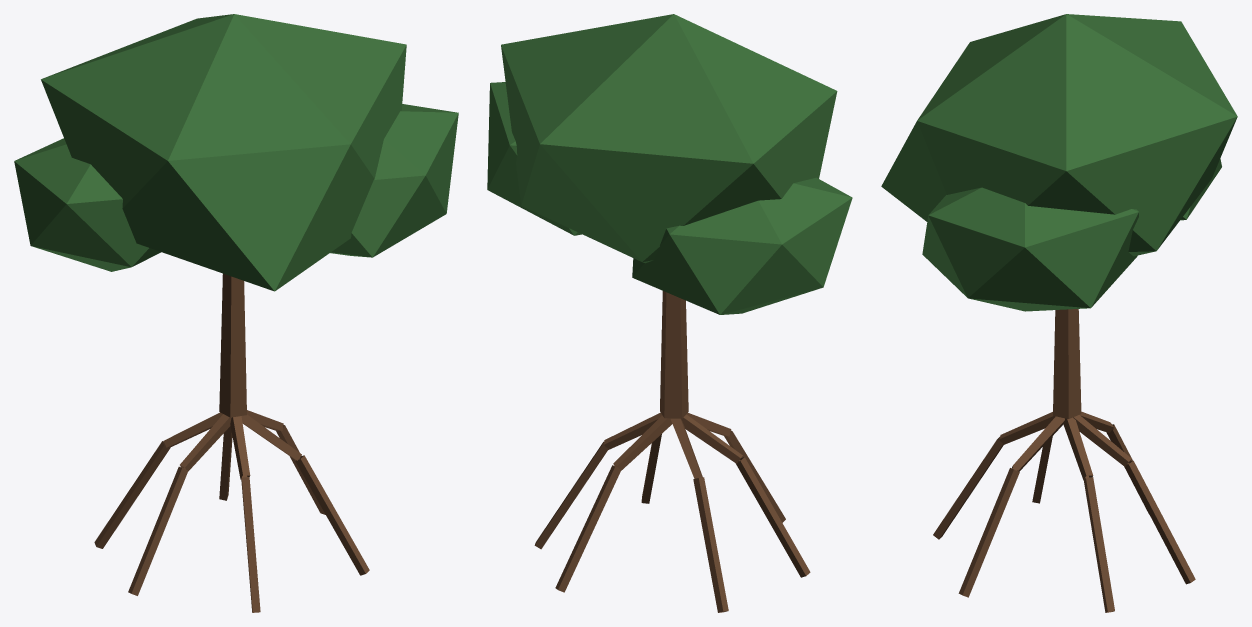
The model's file is paletuvier.glb.
The picture shows the model from 3 angles, left to right: view 1: azimuth 30°, elevation 25°; view 2: azimuth 150°, elevation 25°; view 3: azimuth 270°, elevation 25°; orthographic projection.
Visible parts, largest first — view 1: paletuvier; view 2: paletuvier; view 3: paletuvier.
Part boxes in pixels (x1,y1,x2,y2): paletuvier: [14, 14, 458, 612]; paletuvier: [487, 14, 852, 612]; paletuvier: [881, 14, 1237, 612].
Size of the model in its own units: 6.38 by 8.72 by 5.17.
1 material, 1 textured.
